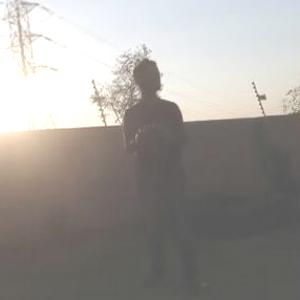follow: (122, 54, 213, 290)
